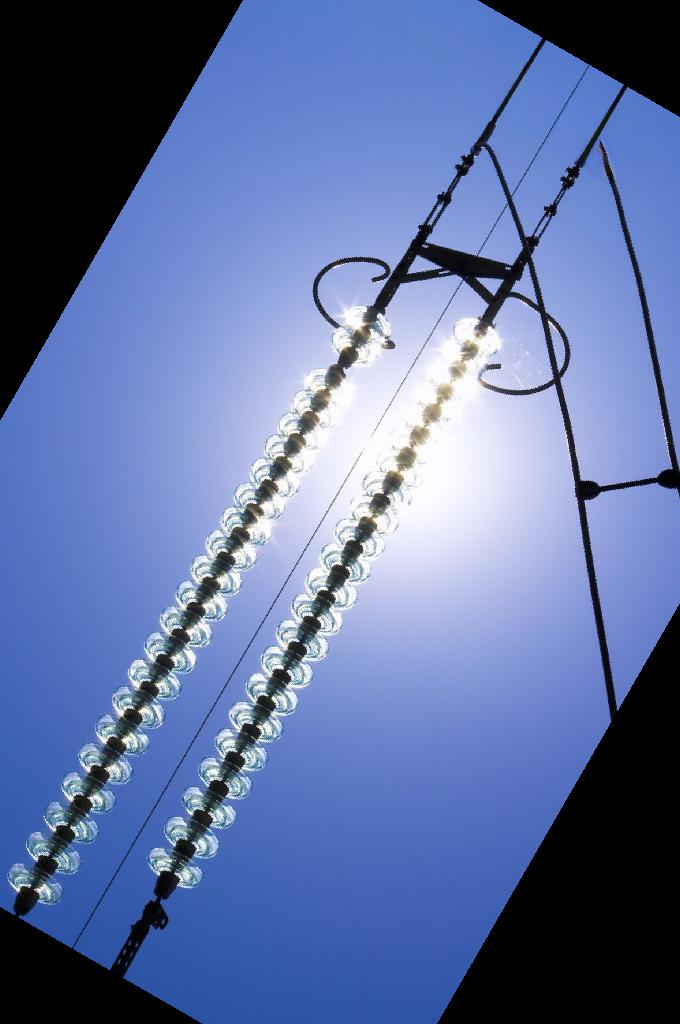insulator: (5, 298, 398, 912), (143, 307, 508, 898)
insulator_stringdrop: (299, 323, 381, 416)
